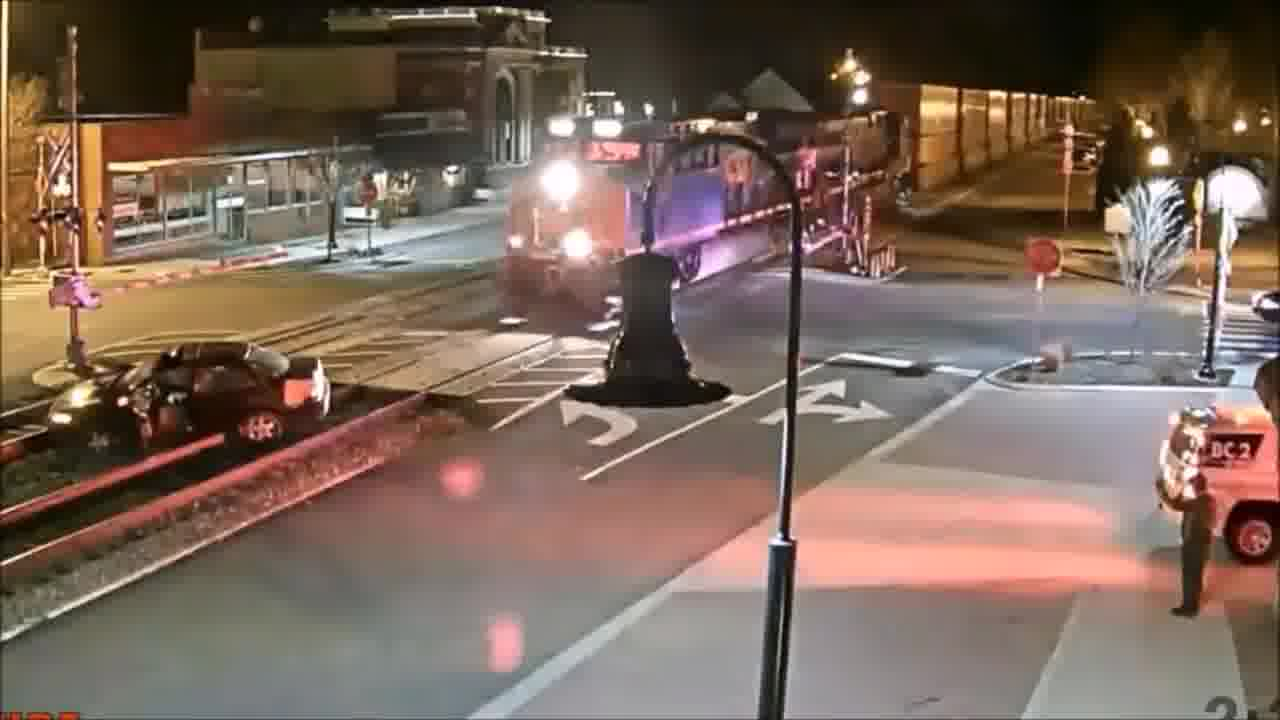crossing railway track: (42, 344, 379, 463)
